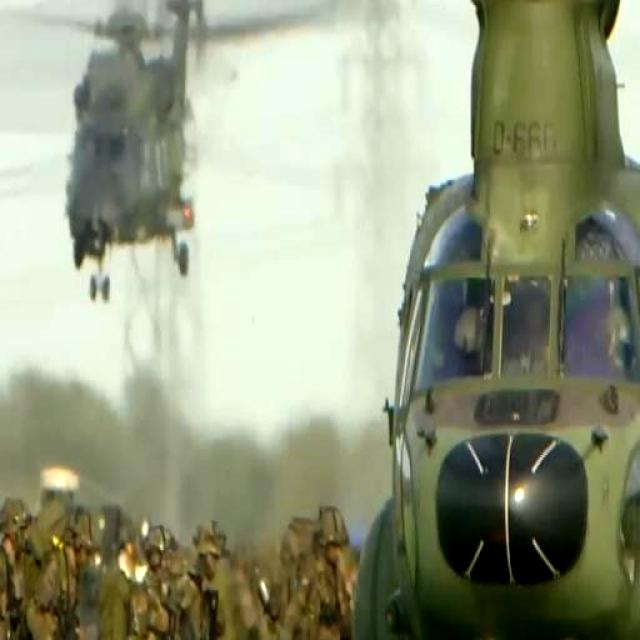drone: (320, 0, 640, 640)
